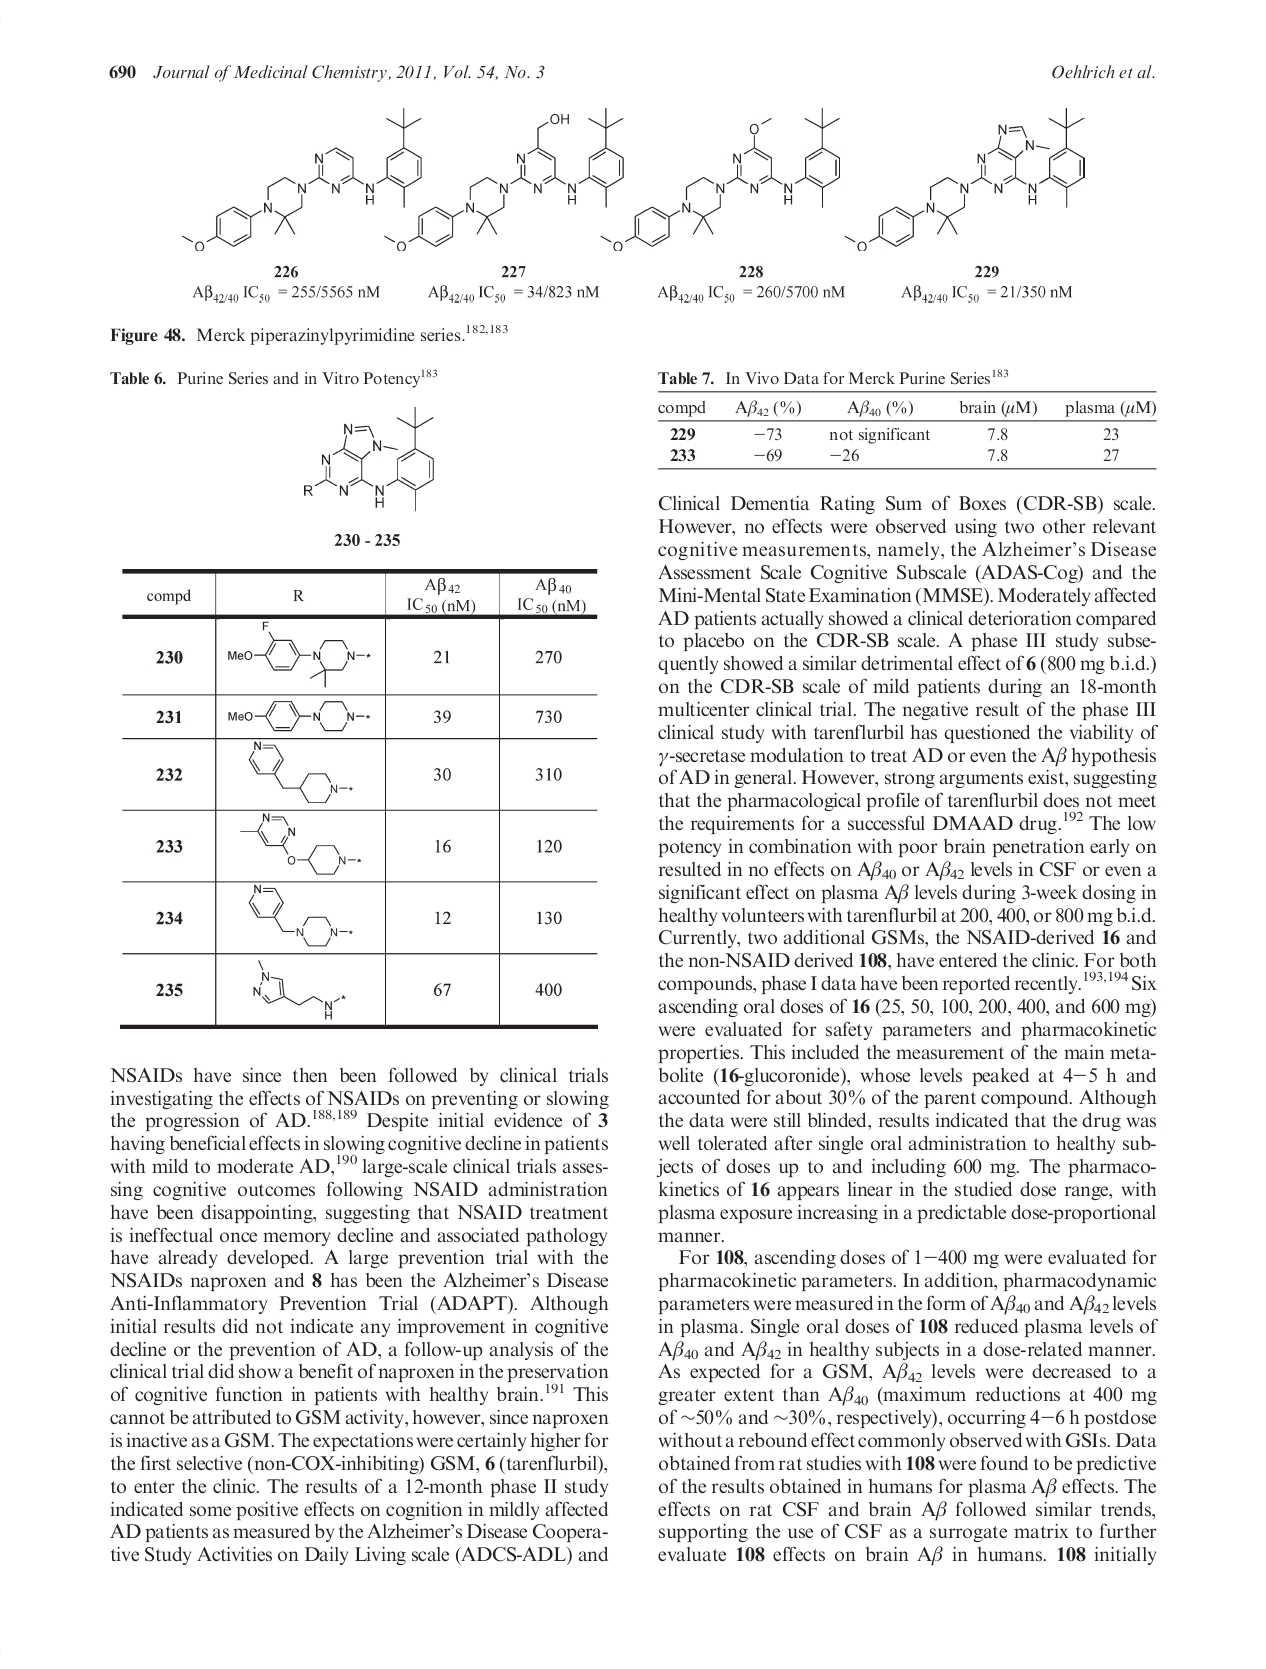exist_molecular: (840, 102, 1090, 255), (598, 104, 842, 261), (176, 104, 424, 255), (382, 104, 628, 255), (293, 398, 445, 517), (227, 621, 372, 688), (242, 811, 362, 876), (239, 741, 356, 807), (243, 880, 356, 948), (247, 958, 348, 1019), (227, 698, 370, 731)
